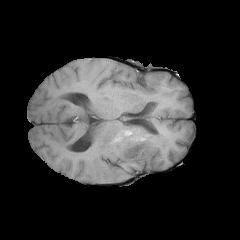glioma: (88, 126, 170, 182)
